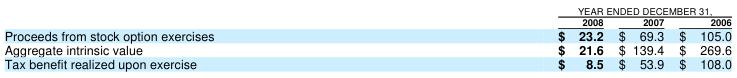table: (3, 3, 730, 71)
table column: (3, 3, 385, 71), (385, 3, 610, 71), (610, 3, 670, 71), (670, 3, 730, 71)
table column header: (3, 3, 730, 27)
table row: (3, 55, 730, 71), (3, 27, 730, 41), (3, 41, 730, 55), (3, 3, 730, 15), (3, 15, 730, 27)
table spanning cell: (385, 3, 730, 15)
